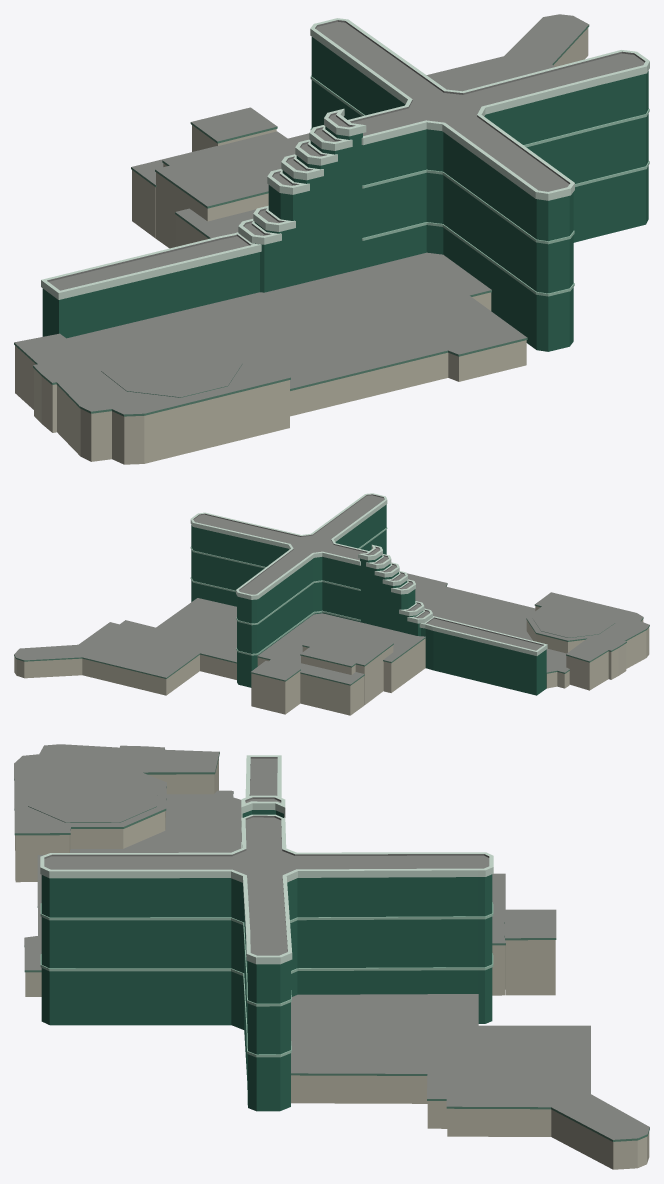
File: hotel_mgm_grand_las_ve_w116770006.glb
The picture shows the model from 3 angles, top to bottom: view 1: azimuth 30°, elevation 25°; view 2: azimuth 150°, elevation 25°; view 3: azimuth 270°, elevation 25°; orthographic projection. The views are drawn at different scales.
Parts seen in each view (by area): view 1: Resort_w116770006; view 2: Resort_w116770006; view 3: Resort_w116770006.
Part boxes in pixels (x1=…): Resort_w116770006: x1=14, y1=14, x2=649, y2=464; Resort_w116770006: x1=14, y1=493, x2=649, y2=715; Resort_w116770006: x1=14, y1=744, x2=649, y2=1169.
Size of the model in its own units: 476 by 98 by 340.
